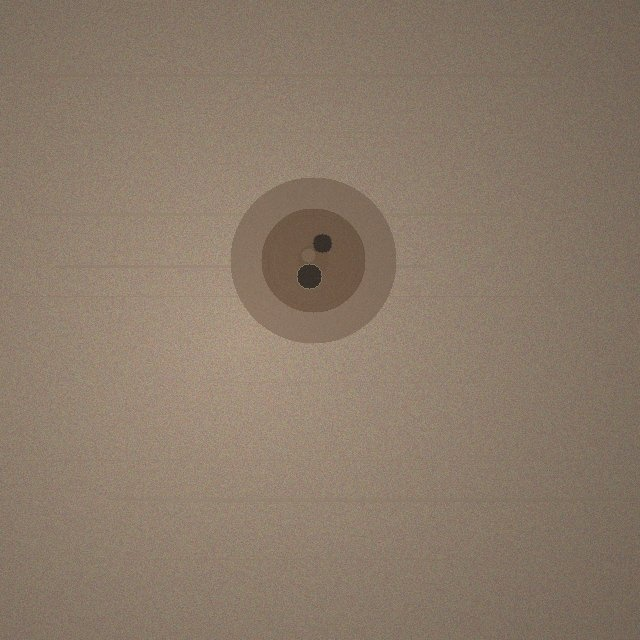shrinkage: (230, 177, 396, 343)
